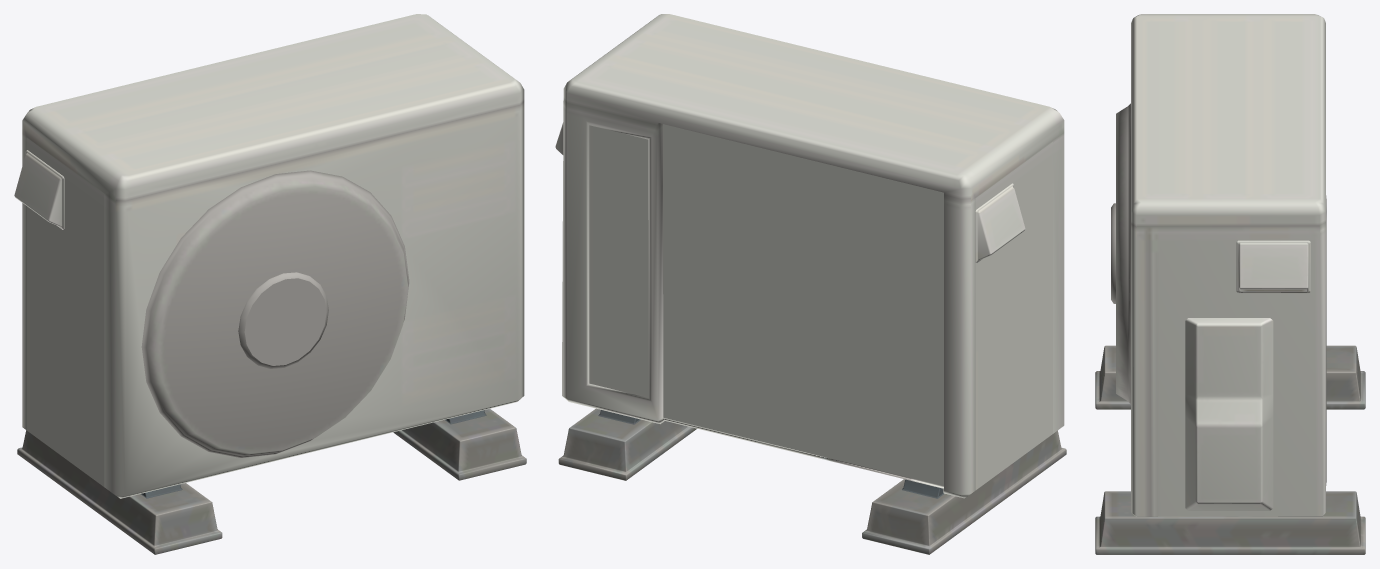
The model's file is FtrOutdoorunit.glb.
The picture shows the model from 3 angles, left to right: view 1: azimuth 30°, elevation 25°; view 2: azimuth 150°, elevation 25°; view 3: azimuth 270°, elevation 25°; orthographic projection. The views are drawn at different scales.
Visible parts, largest first — view 1: Feather_low__mBody; view 2: Feather_low__mBody; view 3: Feather_low__mBody.
Boxes of the visible parts, box(x1,y1,x2,y2) form: Feather_low__mBody: box(14, 14, 526, 554); Feather_low__mBody: box(555, 14, 1066, 554); Feather_low__mBody: box(1095, 14, 1365, 554).
Size of the model in its own units: 9.65 by 7.53 by 5.14.
Materials: 1 (1 with a texture image).
